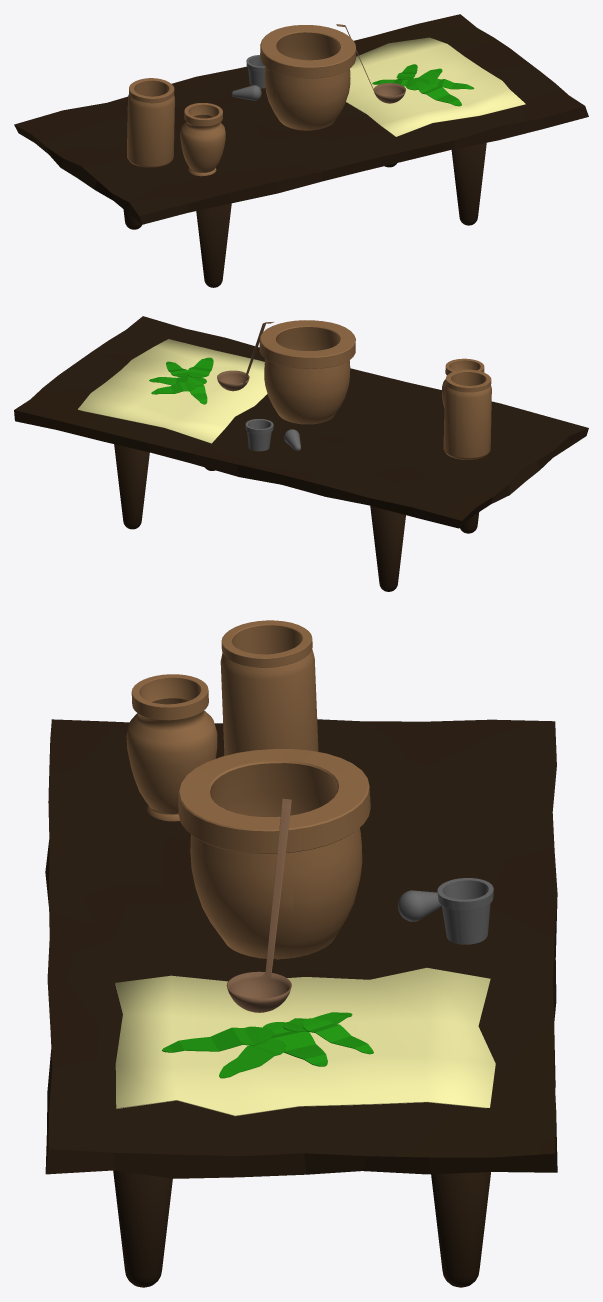
The model's file is TableB_setup.fbx.
The picture shows the model from 3 angles, top to bottom: view 1: azimuth 30°, elevation 25°; view 2: azimuth 150°, elevation 25°; view 3: azimuth 270°, elevation 25°; orthographic projection. The views are drawn at different scales.
Visible parts, largest first — view 1: TableB.002; view 2: TableB.002; view 3: TableB.002.
Boxes of the visible parts, x1=… form: TableB.002: x1=14, y1=14, x2=588, y2=287; TableB.002: x1=14, y1=316, x2=588, y2=591; TableB.002: x1=45, y1=620, x2=557, y2=1287.
Bounding box in the file's own units: 314 × 131 × 155.
1 material, 1 textured.
